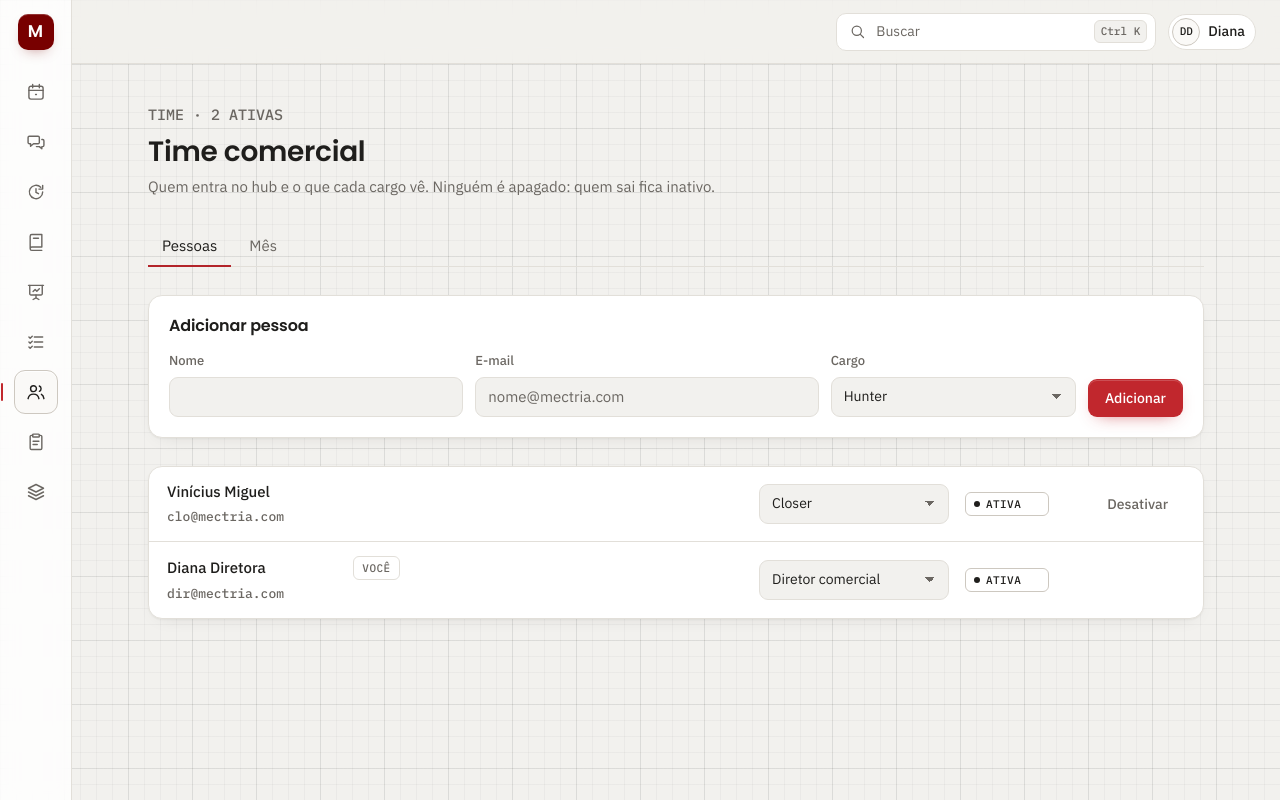
Test: e-mail repetido mostra o erro da API junto do formulário
Type "Outra Pessoa" into the field labelled "Nome" at {"x": 316, "y": 397}, box [169,377,463,417]
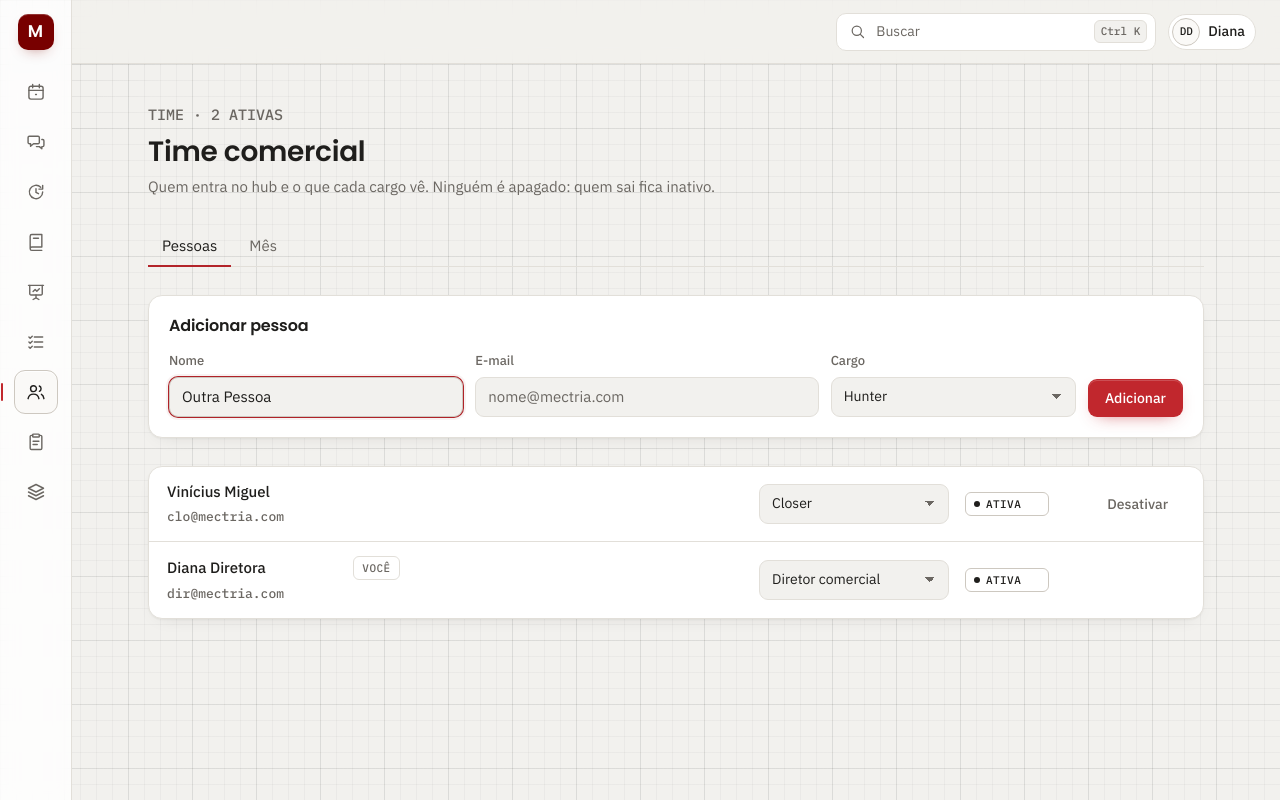
Type "clo@mectria.com" into the field labelled "E-mail" at {"x": 647, "y": 397}, box [475,377,819,417]
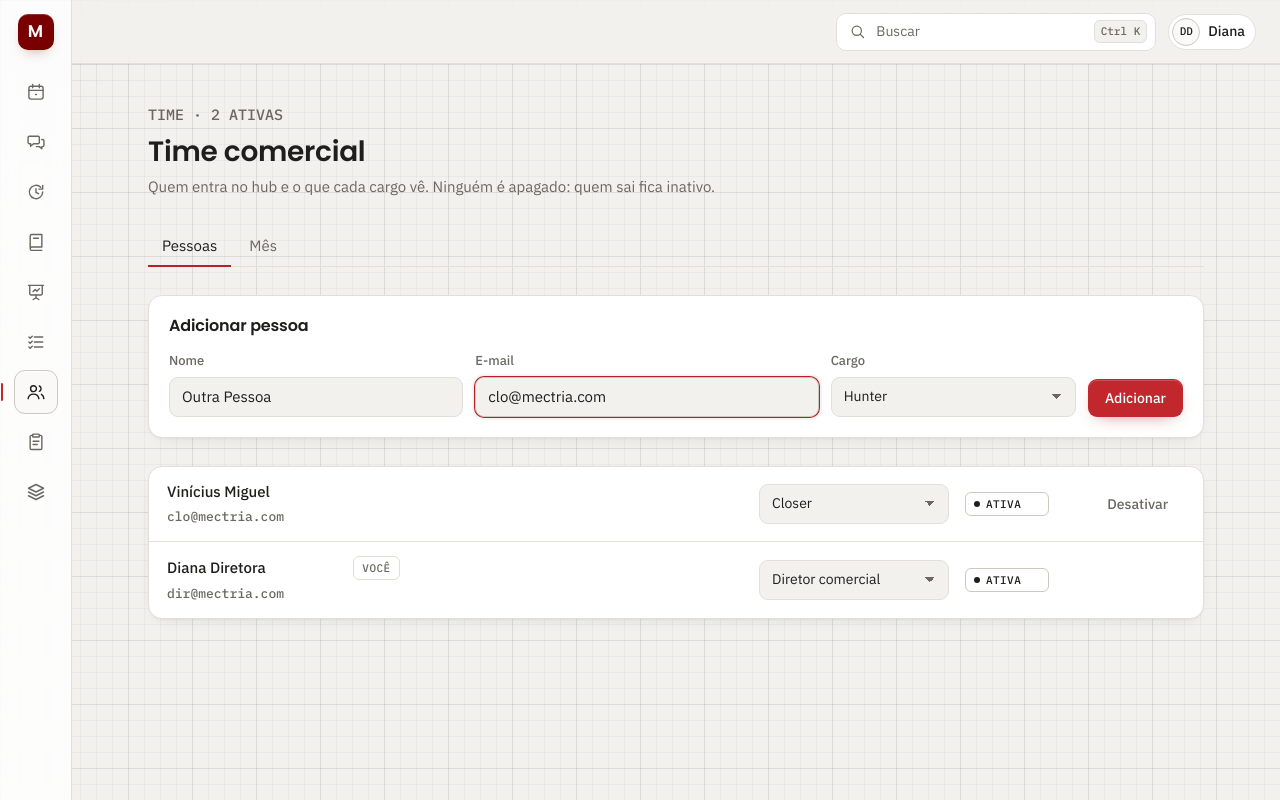
Click the button "Adicionar" at {"x": 1135, "y": 398}, box [1088,379,1183,417]
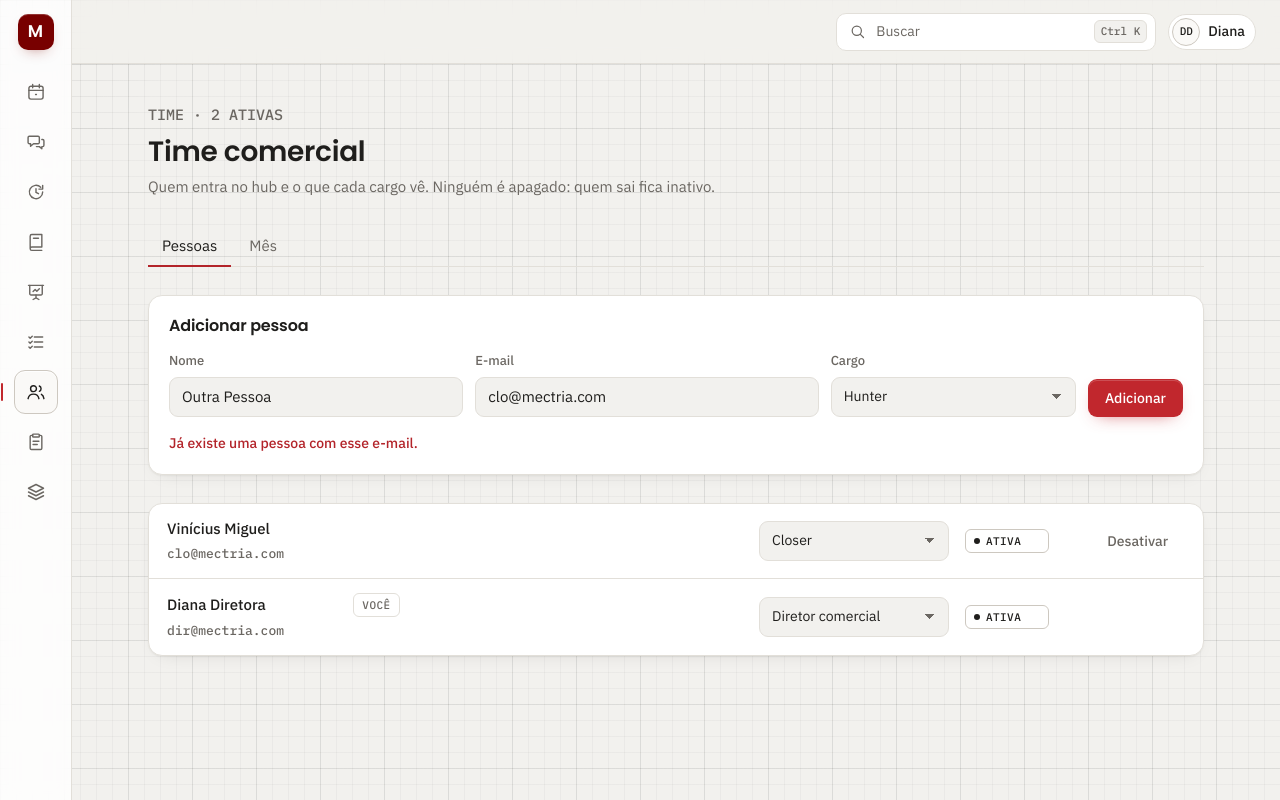
Now the message reads "Já existe uma pessoa com esse e-mail.", box [169,434,418,452]
